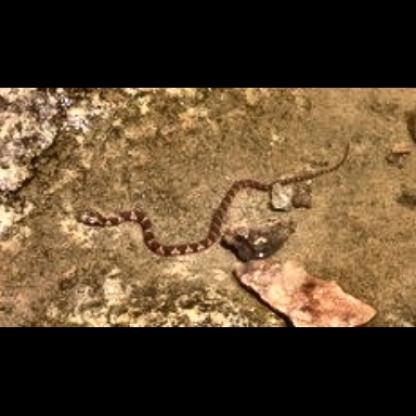Snake: (72, 148, 368, 256)
